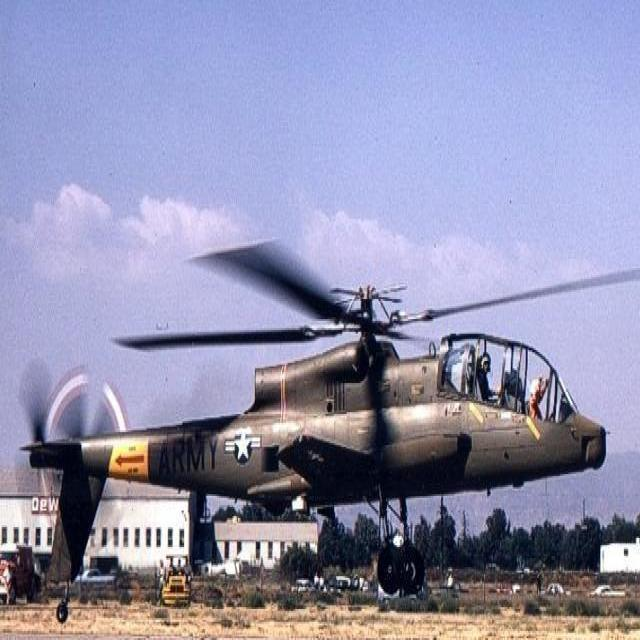MIL_HELO: (19, 230, 640, 598)
